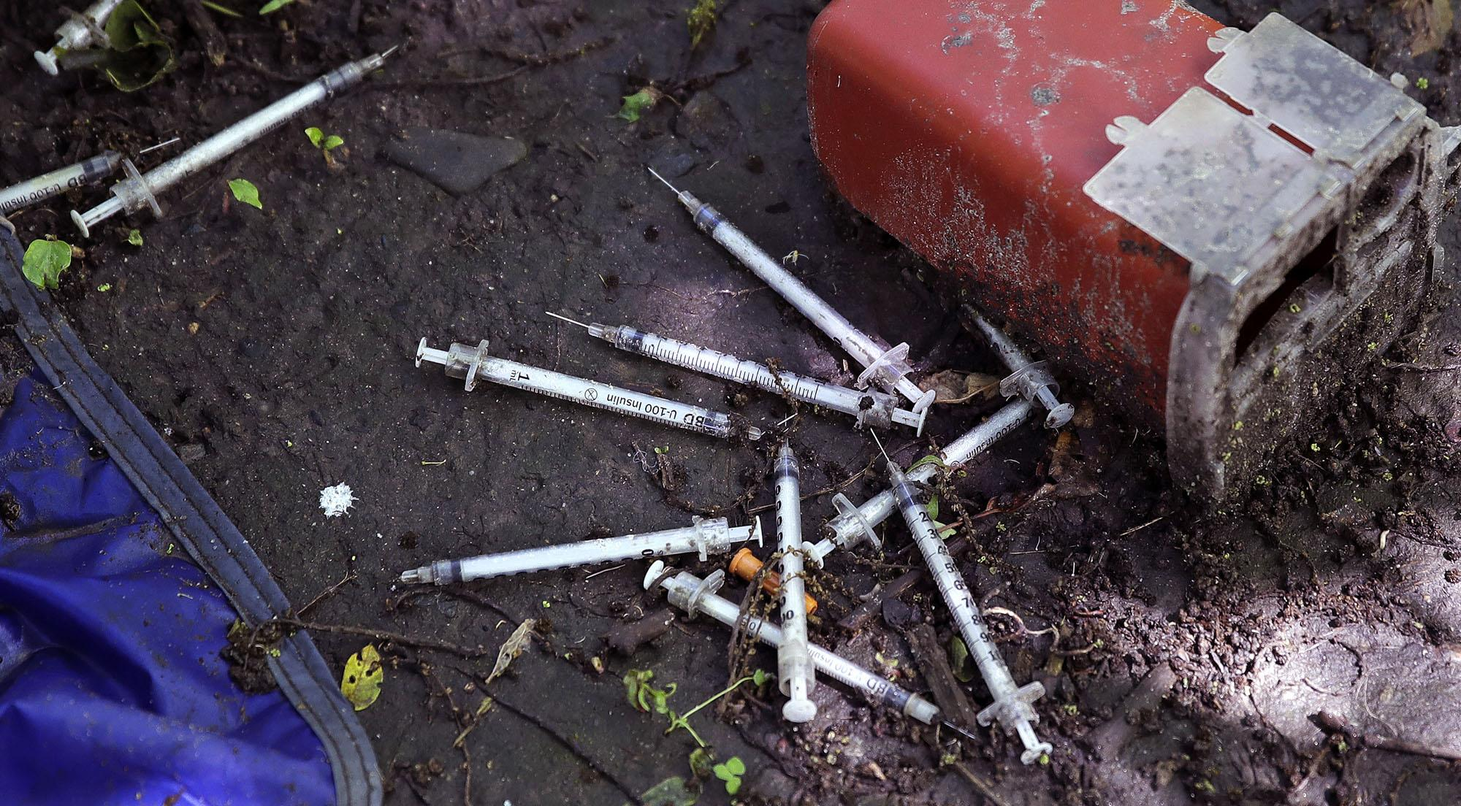Syringe: (649, 169, 935, 412), (72, 47, 394, 237), (888, 459, 1050, 763), (549, 312, 928, 434), (416, 338, 762, 440), (400, 517, 761, 585), (963, 304, 1074, 428), (774, 442, 816, 722), (907, 399, 1033, 483), (809, 644, 939, 724), (0, 151, 123, 215), (34, 0, 123, 75)
